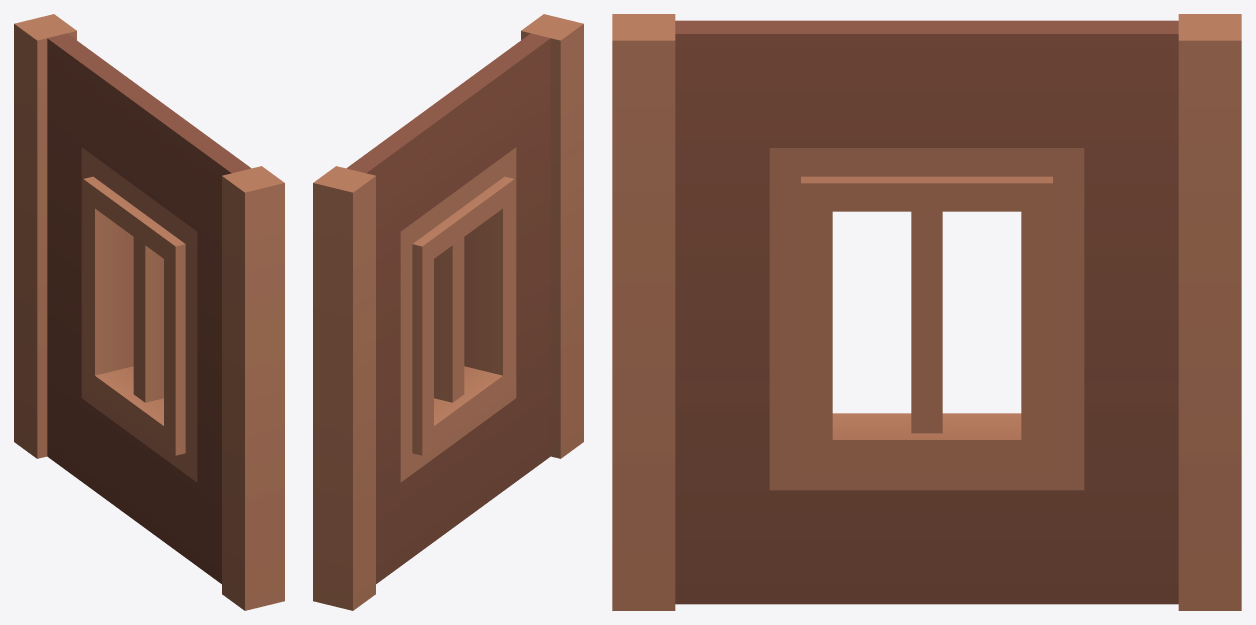
The model's file is kenney-fantasy-town-wall-wood-window-shutters.glb.
3 renders of one model, left to right at view 1: azimuth 30°, elevation 25°; view 2: azimuth 150°, elevation 25°; view 3: azimuth 270°, elevation 25°, orthographic. The views are drawn at different scales.
Parts seen in each view (by area): view 1: wall-wood-window-shutters; view 2: wall-wood-window-shutters; view 3: wall-wood-window-shutters.
Boxes of the visible parts, left/top/right/bottom form: wall-wood-window-shutters: left=14, top=14, right=284, bottom=610; wall-wood-window-shutters: left=313, top=14, right=583, bottom=610; wall-wood-window-shutters: left=612, top=14, right=1241, bottom=610.
Size of the model in its own units: 0.1 by 1 by 1.
Materials: 1 (1 with a texture image).
